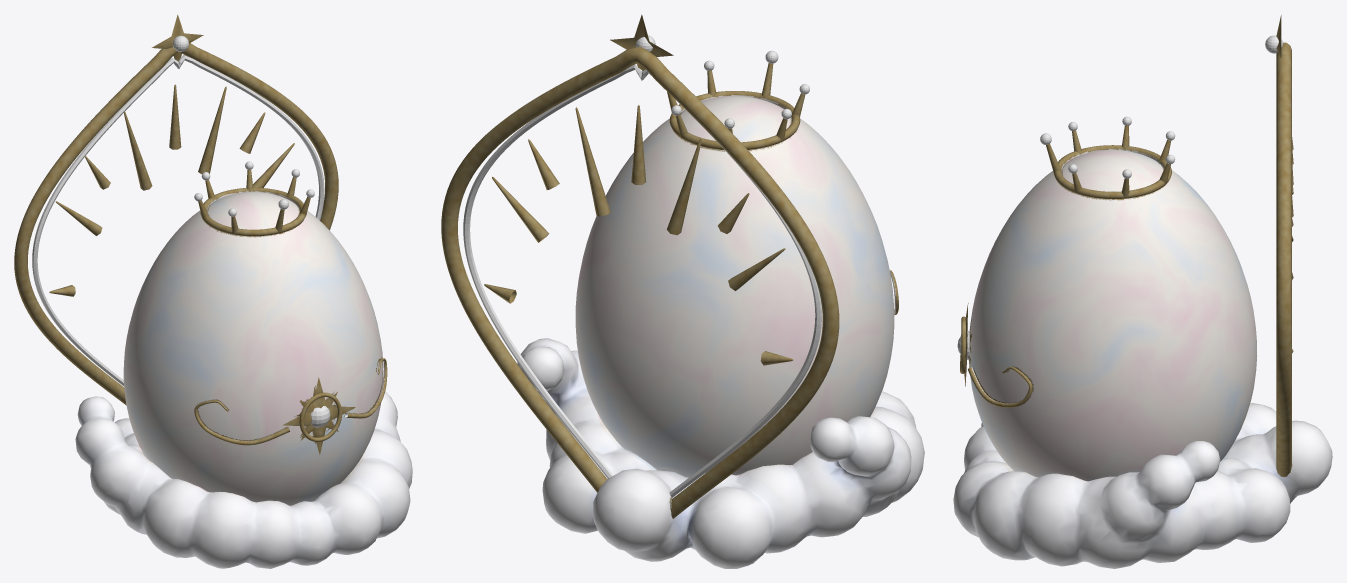
File: HeavenlyThroneEgg.fbx
3 renders of one model, left to right at view 1: azimuth 30°, elevation 25°; view 2: azimuth 150°, elevation 25°; view 3: azimuth 270°, elevation 25°, orthographic. The views are drawn at different scales.
Visible parts, largest first — view 1: HeavenlyThroneEgg_Body, HeavenlyThroneEgg_Glow_ffa31a; view 2: HeavenlyThroneEgg_Body, HeavenlyThroneEgg_Glow_ffa31a; view 3: HeavenlyThroneEgg_Body, HeavenlyThroneEgg_Glow_ffa31a.
Part boxes in pixels (bbox=[...]): HeavenlyThroneEgg_Body: bbox=[14, 14, 412, 568]; HeavenlyThroneEgg_Glow_ffa31a: bbox=[32, 35, 330, 427]; HeavenlyThroneEgg_Body: bbox=[441, 14, 924, 568]; HeavenlyThroneEgg_Glow_ffa31a: bbox=[463, 35, 821, 497]; HeavenlyThroneEgg_Body: bbox=[953, 15, 1332, 568]; HeavenlyThroneEgg_Glow_ffa31a: bbox=[957, 35, 1282, 360].
Bounding box in the file's own units: 2.94 × 3.97 × 2.7.
Materials: 2 (1 with a texture image).
